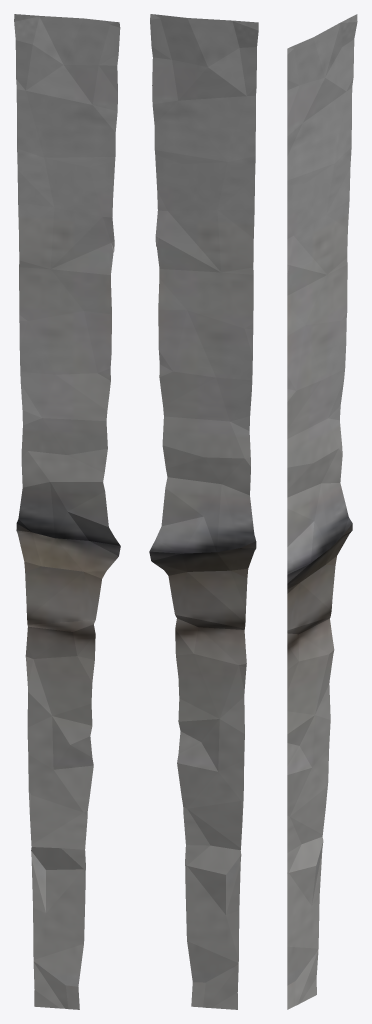
3 renders of one model, left to right at view 1: azimuth 30°, elevation 25°; view 2: azimuth 210°, elevation 25°; view 3: azimuth 270°, elevation 25°, orthographic. The views are drawn at different scales.
Bounding box in the file's own units: 0.0643 × 0.8374 × 0.0542.
1 material, 1 textured.
